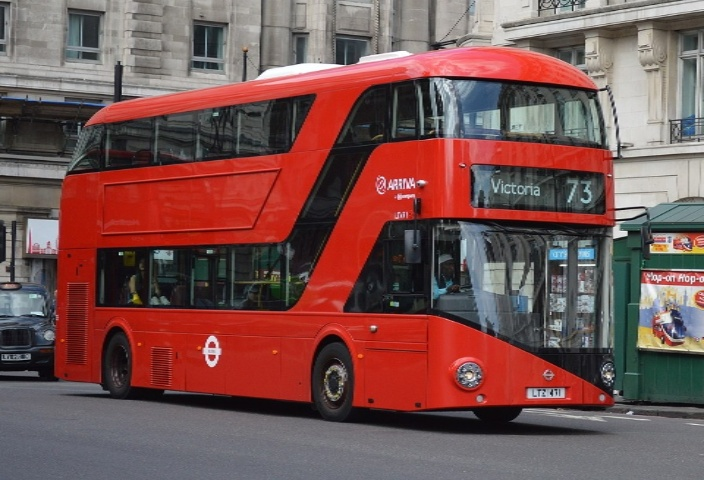bus: (46, 78, 656, 430)
